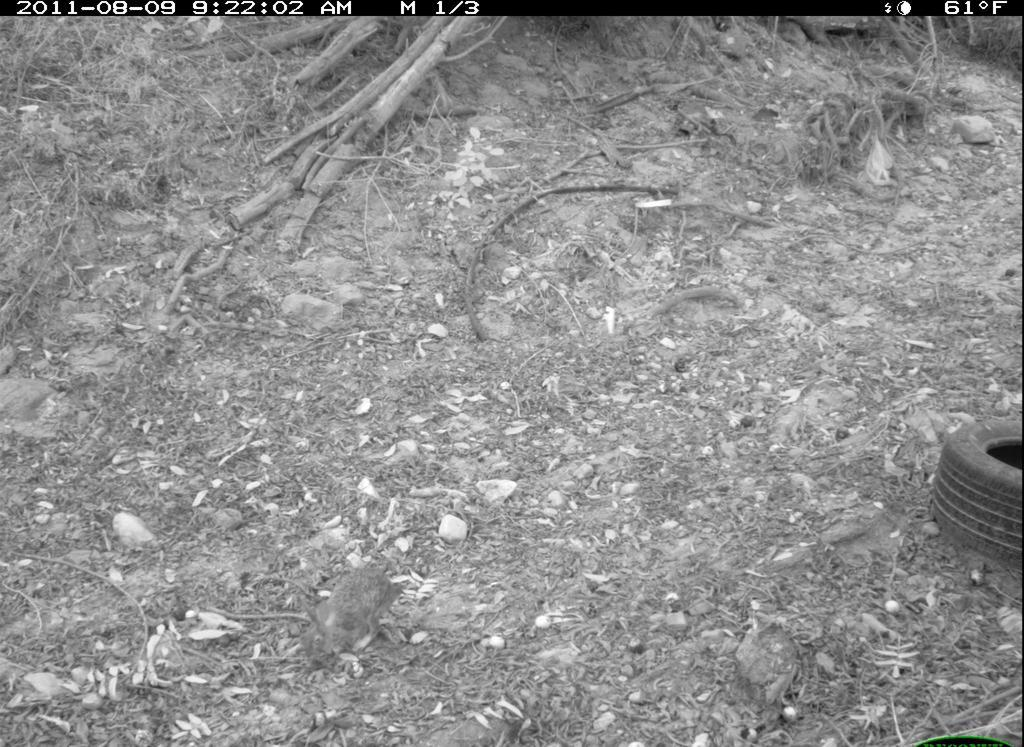rabbit: (294, 558, 407, 675)
